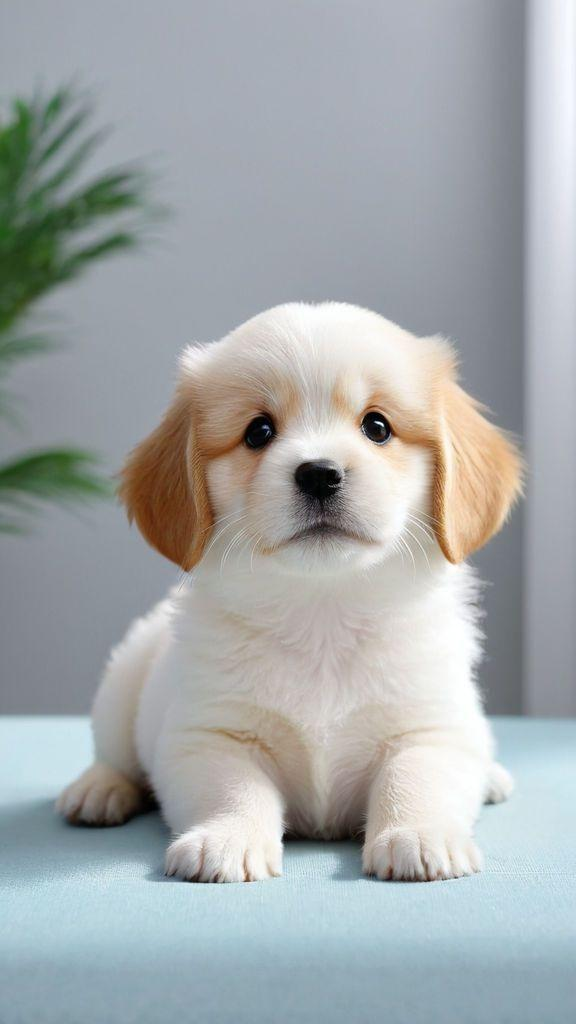puppy-dog: (56, 300, 529, 885)
